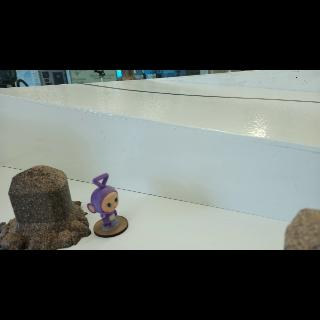teletubby: (87, 173, 118, 226)
